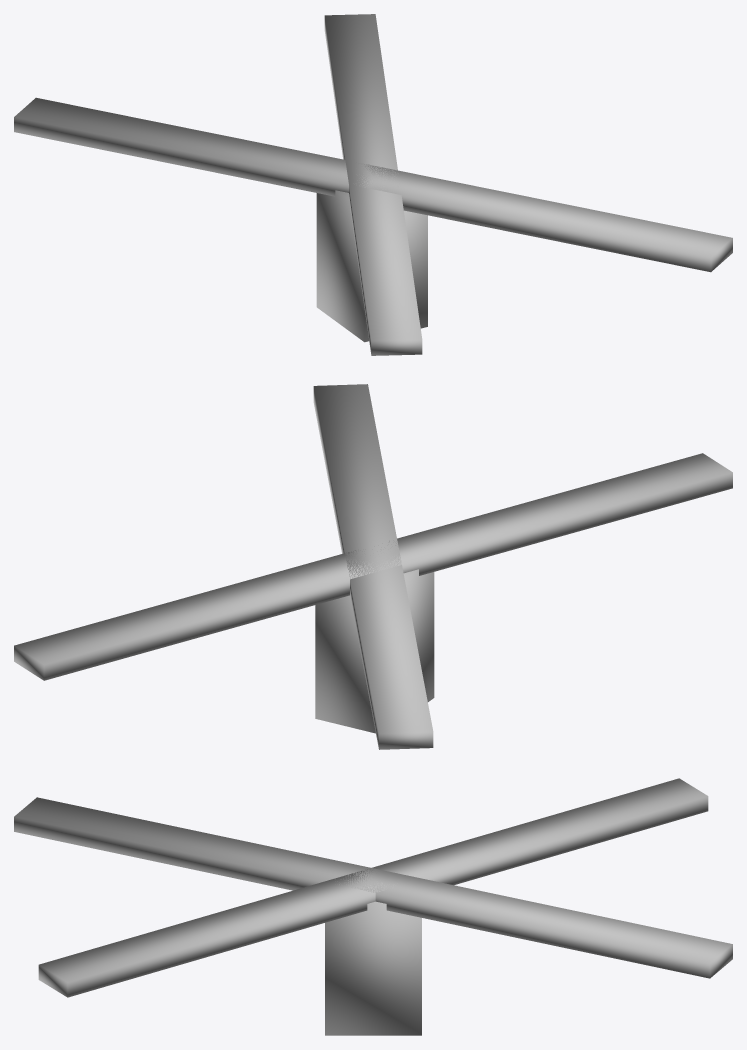
Rendered from flyEnemyT.obj.
3 renders of one model, top to bottom at view 1: azimuth 30°, elevation 25°; view 2: azimuth 150°, elevation 25°; view 3: azimuth 270°, elevation 25°, orthographic. The views are drawn at different scales.
Parts seen in each view (by area): view 1: 立方体.003; view 2: 立方体.003; view 3: 立方体.003.
Boxes of the visible parts, x1,y1,x2,y2 form: 立方体.003: (14, 14, 732, 355); 立方体.003: (14, 384, 732, 749); 立方体.003: (14, 778, 732, 1035).
Size of the model in its own units: 3.93 by 1.26 by 5.85.
Materials: 1 (1 with a texture image).
